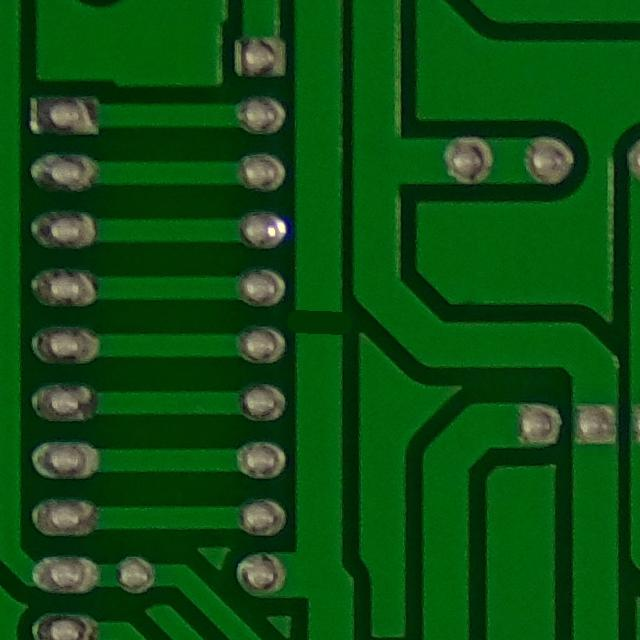open_circuit: (288, 288, 353, 353)
